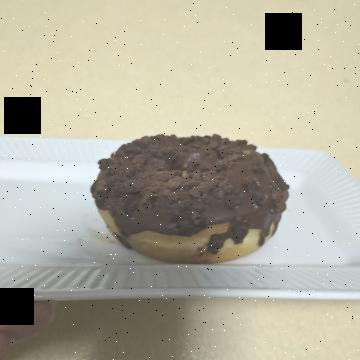doughnut: (120, 52, 268, 278)
